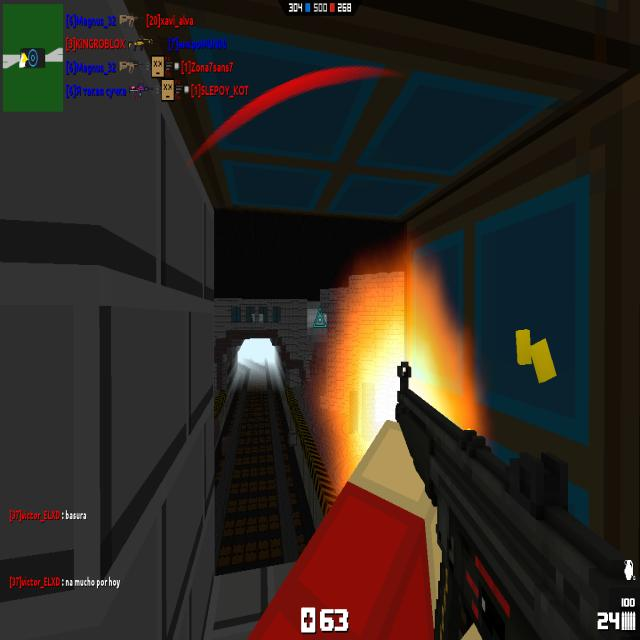enemy: (323, 314, 327, 326), (250, 315, 253, 322)
